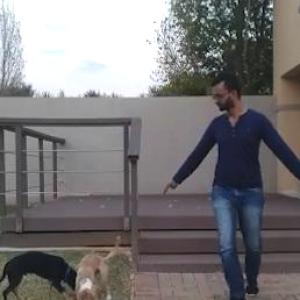land: (148, 60, 299, 299)
